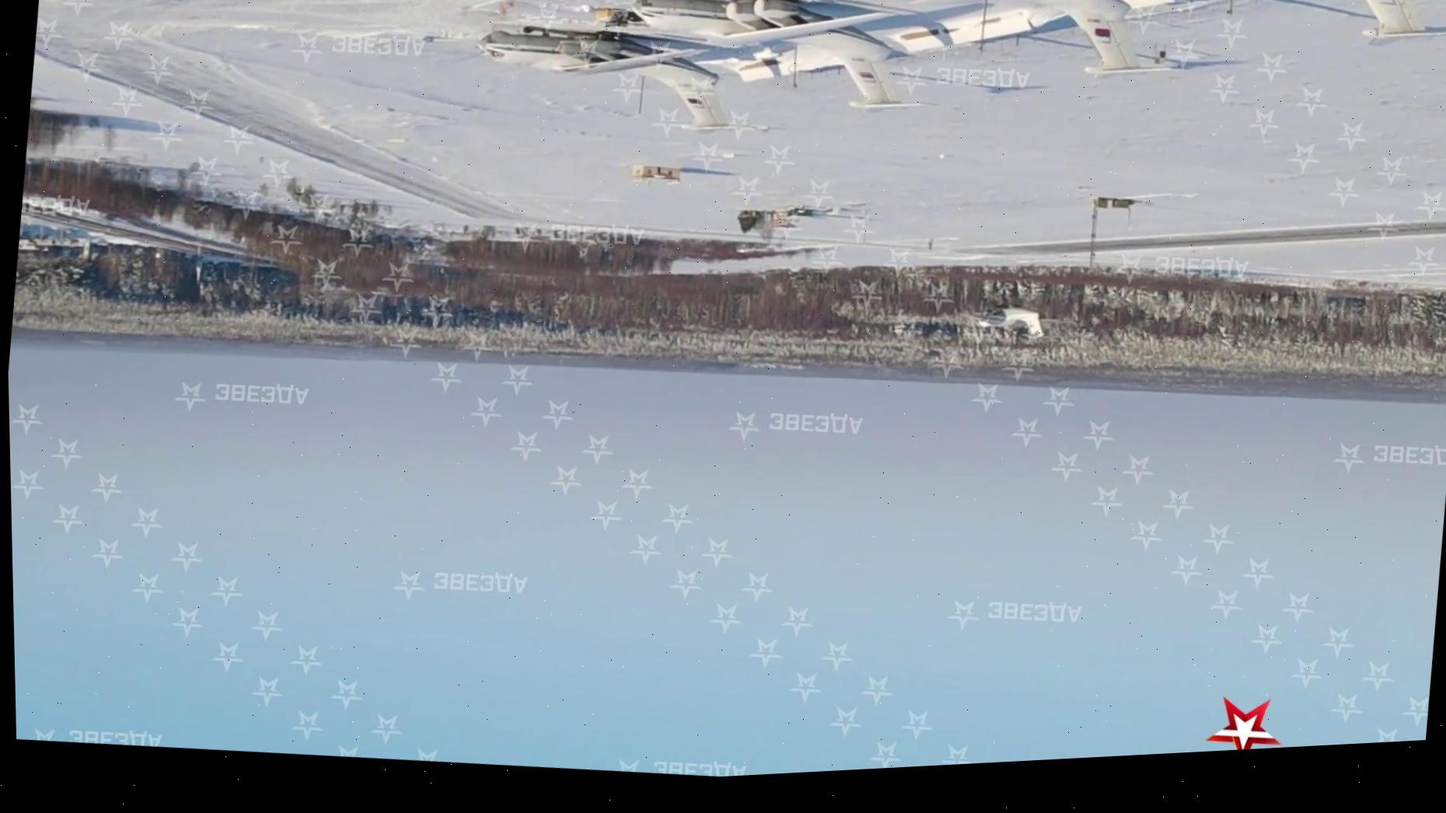plane: (467, 6, 782, 155), (620, 0, 948, 134), (835, 0, 1200, 101)
